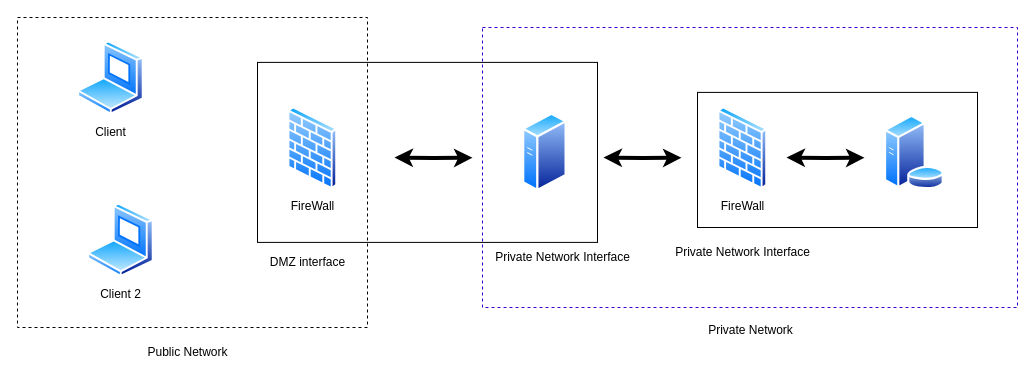
The diagram is 1035 pixels wide and 385 high, and some of its shapes have lost their labels. The shapes that lost their labels are listed below. From the top down, each one's centre as x and y in pixels, then its label:
(544,152): App Server
(913,152): DataBase Server
